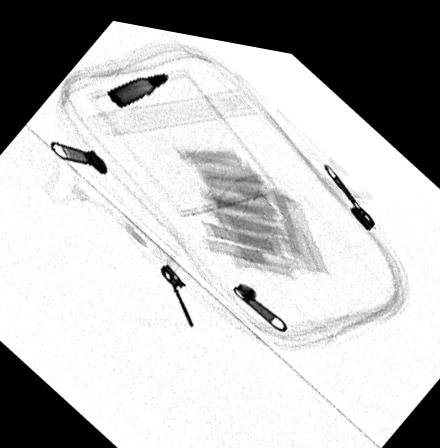Bullet: (106, 66, 169, 103)
